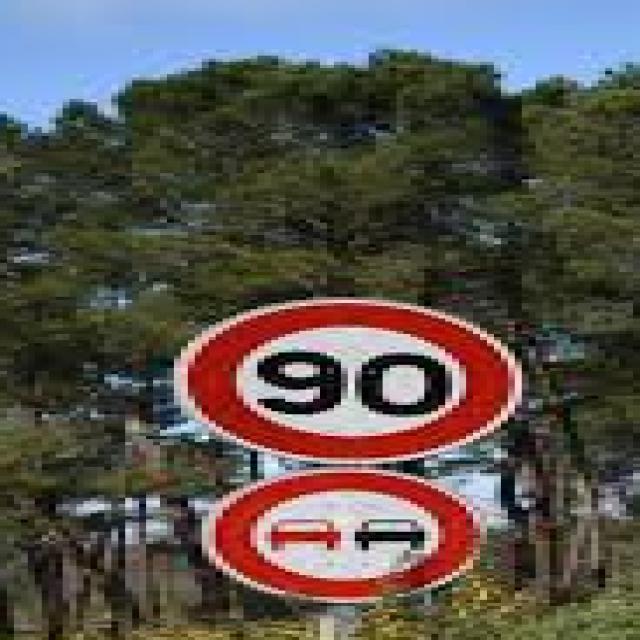Speed Limit -90-: (169, 296, 532, 469)
